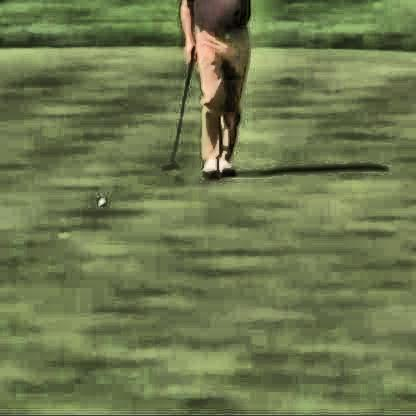golfball: (95, 195, 102, 202)
